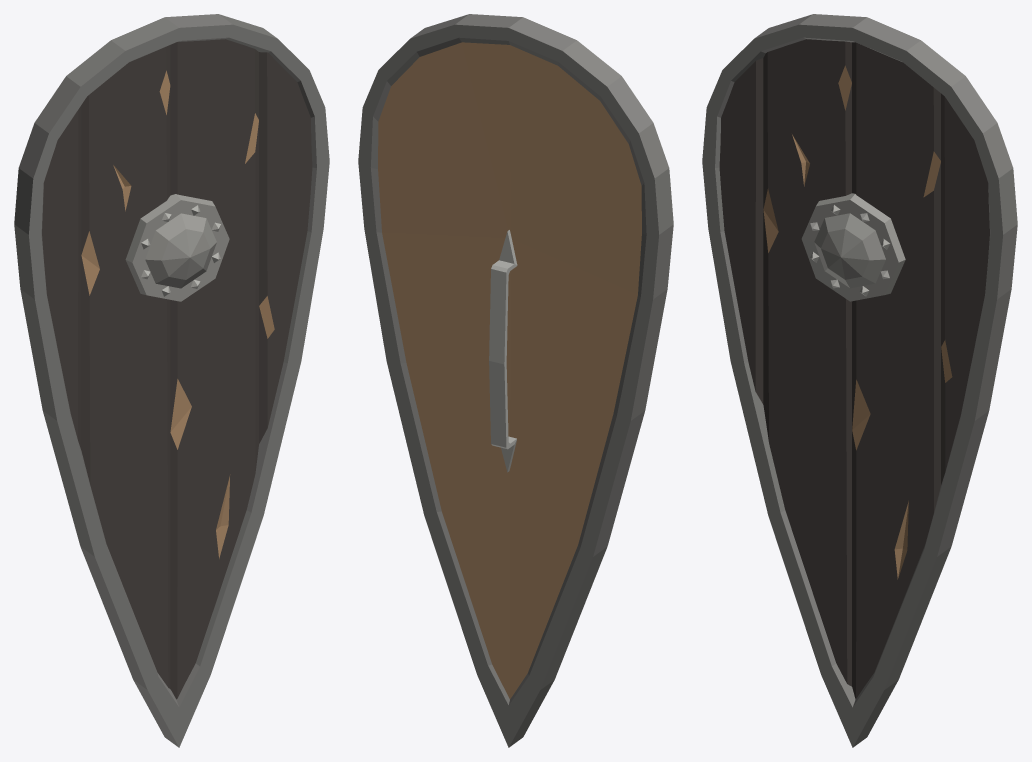
Rendered from SM_pwe_medieval_shield_02.fbx.
The picture shows the model from 3 angles, left to right: view 1: azimuth 30°, elevation 25°; view 2: azimuth 150°, elevation 25°; view 3: azimuth 330°, elevation 25°; orthographic projection.
Visible parts, largest first — view 1: SM_pwe_medieval_shield_02; view 2: SM_pwe_medieval_shield_02; view 3: SM_pwe_medieval_shield_02.
Part boxes in pixels (x1=…): SM_pwe_medieval_shield_02: x1=14, y1=14, x2=329, y2=747; SM_pwe_medieval_shield_02: x1=358, y1=14, x2=673, y2=747; SM_pwe_medieval_shield_02: x1=702, y1=14, x2=1017, y2=747.
Bounding box in the file's own units: 52.87 × 121 × 11.21.
